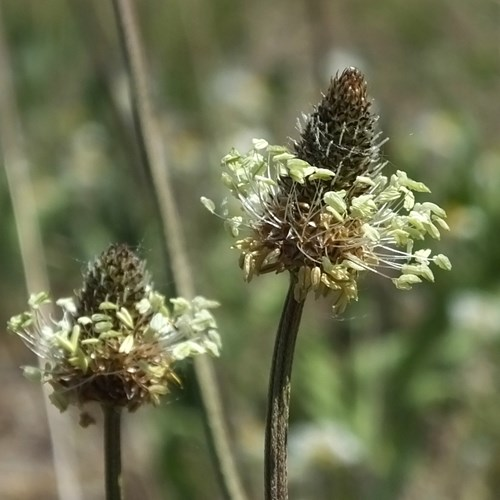buckhorn plantain: (231, 60, 430, 443), (27, 239, 206, 487)
